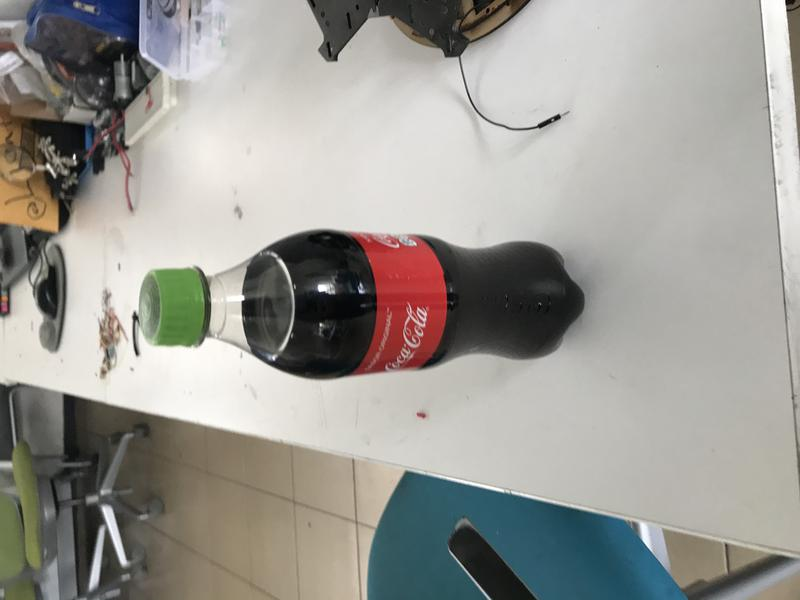coca_cola: (139, 229, 586, 381)
